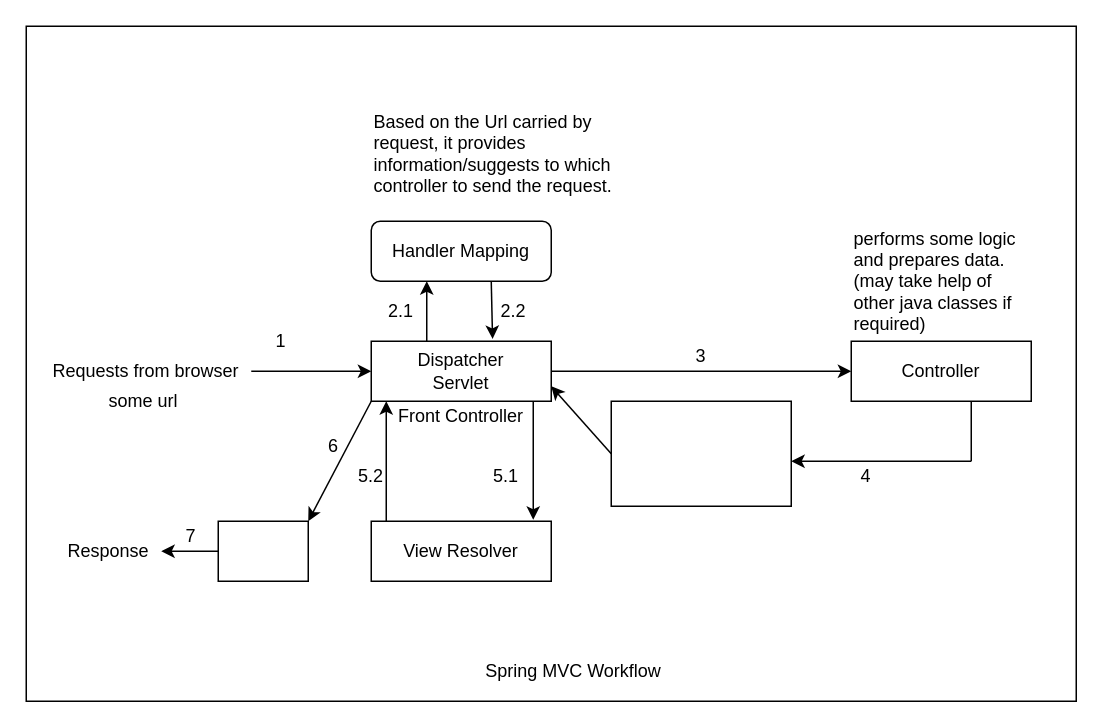
The diagram is 1103 pixels wide and 728 high, and some of its shapes have lost their labels. The centre of each missing label's shape, as x and y in pixels:
Model and Logical ViewName (Java Object Holding data): pixel 700 453
View: pixel 262 550
